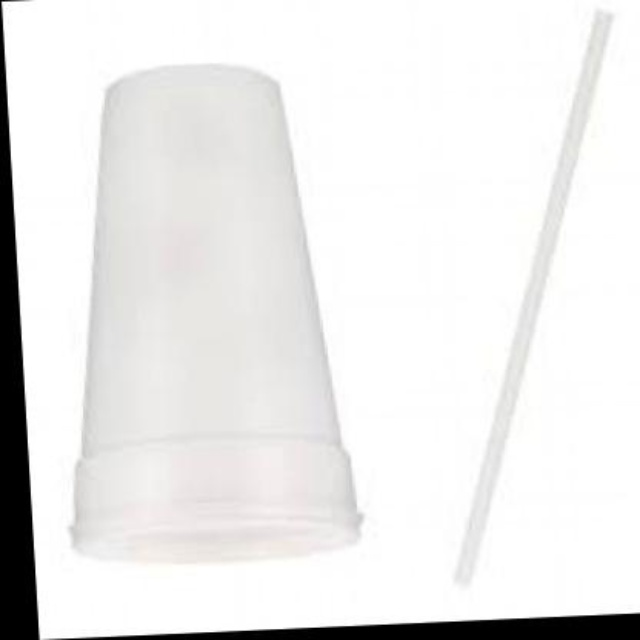trash: (74, 65, 358, 558)
